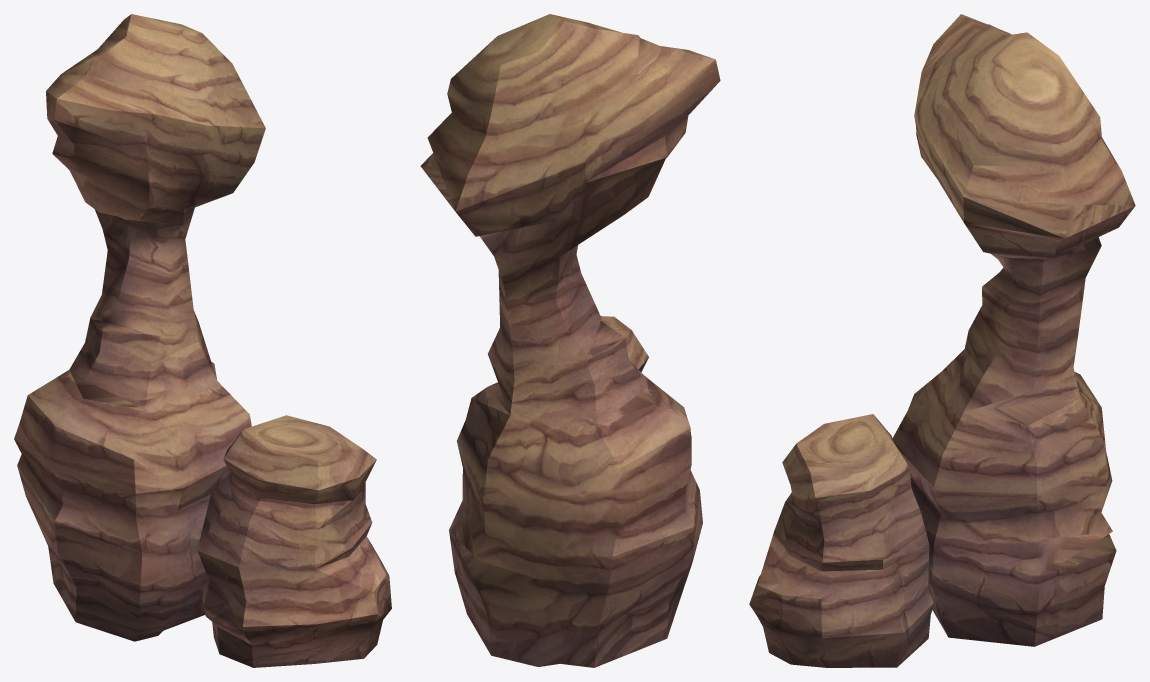
File: stone_06.FBX
3 views of the same model, side by side, from view 1: azimuth 30°, elevation 25°; view 2: azimuth 150°, elevation 25°; view 3: azimuth 270°, elevation 25° (orthographic). The views are drawn at different scales.
Visible parts, largest first — view 1: stone_06; view 2: stone_06; view 3: stone_06.
Boxes of the visible parts, <box> form: stone_06: <box>14,14,391,667</box>; stone_06: <box>420,14,720,667</box>; stone_06: <box>749,14,1135,667</box>.
Size of the model in its own units: 7.89 by 16.3 by 9.99.
